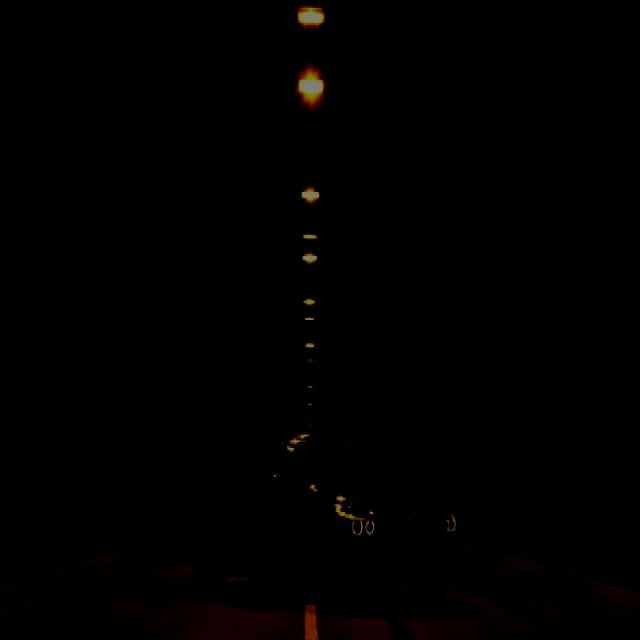Car: (182, 427, 461, 615)
